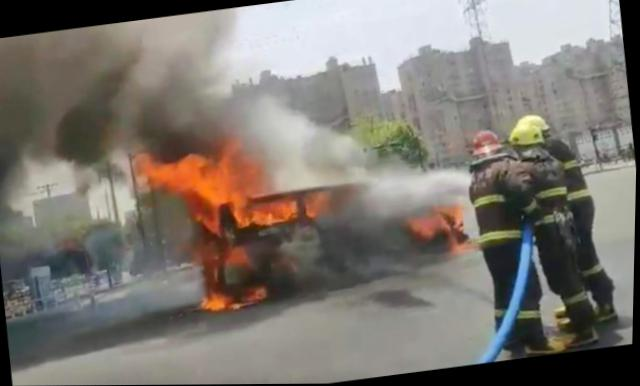fire: (132, 124, 313, 251), (191, 246, 271, 315), (408, 196, 476, 265)
